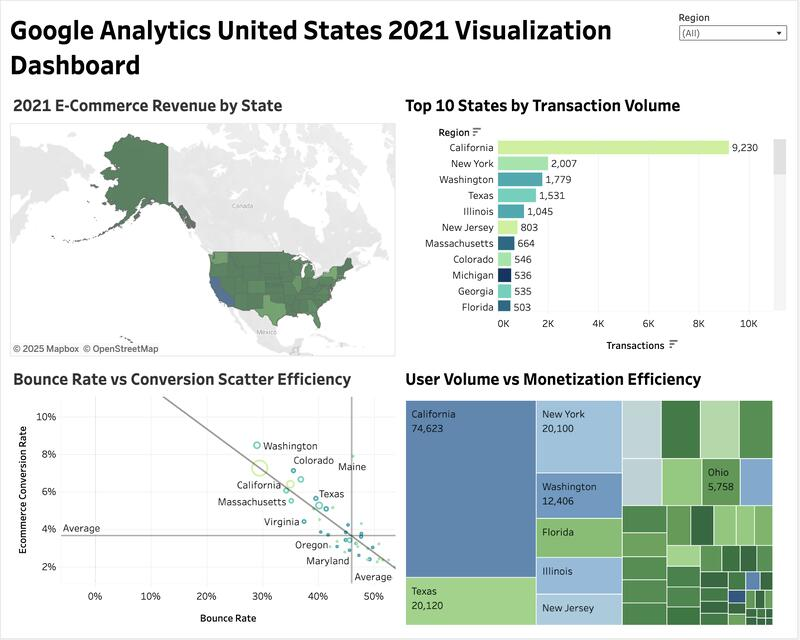

The dashboard page shown, as its layout file describes it:
{"tool":"tableau","page":{"name":"Main Dashboard","canvas":[1000,800],"ordinal":0},"visuals":[{"type":"text","box":[8,8,839,99]},{"type":"filter","title":"Revenue Map","param":"[federated.1gaws9s0nashud1am0glg01w0fk3].[none:Region:nk]","box":[847,8,145,99]},{"type":"worksheet","title":"Revenue Map","mark":"Multipolygon","box":[8,107,492,342.5]},{"type":"worksheet","title":"Top 10 Transactions","mark":"Automatic","rows":["Region"],"cols":["Transactions"],"box":[500,107,492,343]},{"type":"worksheet","title":"Conversion Efficiency","mark":"Automatic","rows":["Ecommerce Conversion Rate"],"cols":["Bounce Rate"],"box":[8,449.5,492,342.5]},{"type":"worksheet","title":"User Distribution","mark":"Automatic","box":[500,450,492,342]}]}

Visuals, with their boxes in screenshot pixels (x1, y1, x2, y2), scaled from the page's 1000x800 canvas onto the 800x640 screenshot:
text: (6, 6, 678, 86)
"Revenue Map" filter: (678, 6, 794, 86)
"Revenue Map" worksheet (Multipolygon marks): (6, 86, 400, 360)
"Top 10 Transactions" worksheet: (400, 86, 794, 360)
"Conversion Efficiency" worksheet: (6, 360, 400, 634)
"User Distribution" worksheet: (400, 360, 794, 634)
